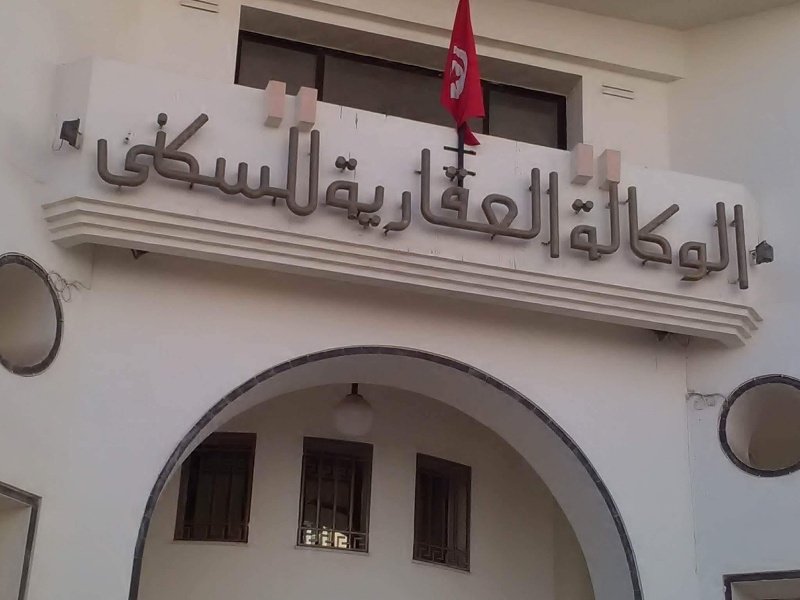text: (545, 132, 561, 260), (337, 132, 352, 260), (353, 132, 368, 260), (369, 132, 384, 260), (385, 132, 400, 260), (401, 132, 416, 260), (417, 132, 432, 260), (433, 132, 448, 260), (449, 132, 464, 260), (465, 132, 480, 260), (481, 132, 496, 260), (497, 132, 512, 260), (513, 132, 528, 260), (529, 132, 544, 260), (305, 101, 321, 219), (113, 101, 128, 219), (129, 101, 144, 219), (145, 101, 160, 219), (161, 101, 176, 219), (177, 101, 192, 219), (193, 101, 208, 219), (209, 101, 224, 219), (225, 101, 240, 219), (241, 101, 256, 219), (257, 101, 272, 219), (273, 101, 288, 219), (289, 101, 304, 219), (577, 177, 592, 293), (593, 177, 608, 293), (609, 177, 624, 293), (625, 177, 640, 293), (641, 177, 656, 293), (657, 177, 672, 293), (673, 177, 688, 293), (689, 177, 704, 293), (705, 177, 720, 293), (721, 177, 736, 293), (737, 177, 751, 293), (99, 101, 112, 219), (569, 177, 576, 293), (331, 132, 336, 260)
